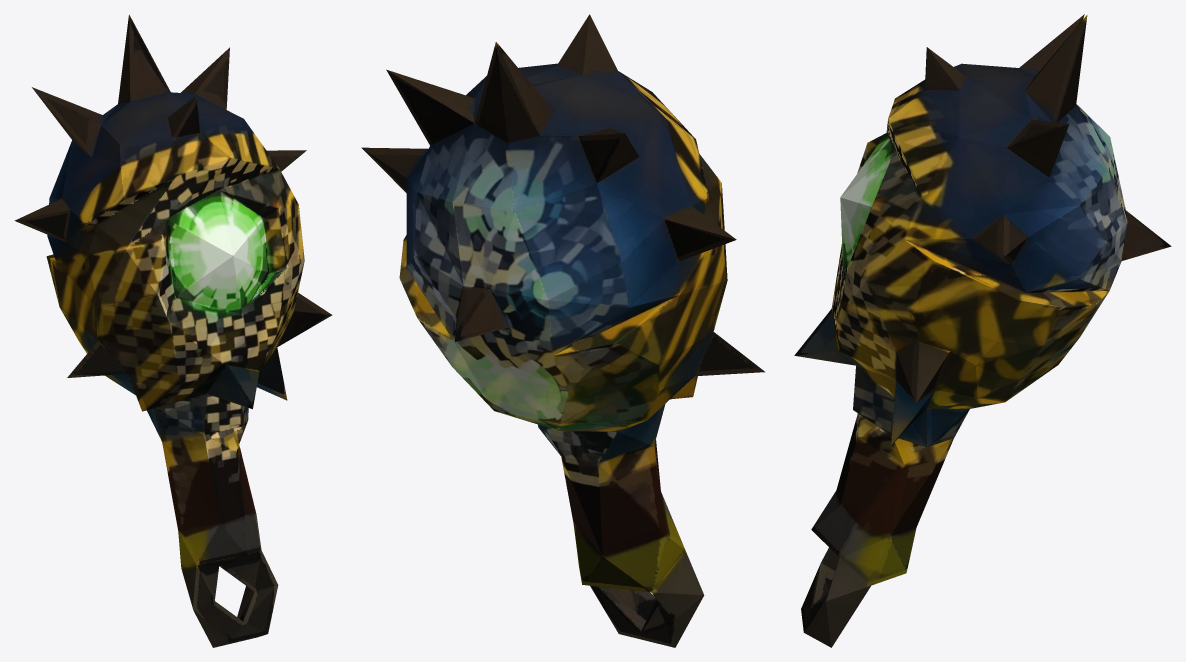
Rendered from spiked_mace_weapon.glb.
The picture shows the model from 3 angles, left to right: view 1: azimuth 30°, elevation 25°; view 2: azimuth 150°, elevation 25°; view 3: azimuth 270°, elevation 25°; orthographic projection. The views are drawn at different scales.
Visible parts, largest first — view 1: TexturedMesh_.obj; view 2: TexturedMesh_.obj; view 3: TexturedMesh_.obj.
Boxes of the visible parts, bbox=[...] form: TexturedMesh_.obj: bbox=[14, 14, 332, 647]; TexturedMesh_.obj: bbox=[361, 14, 764, 647]; TexturedMesh_.obj: bbox=[794, 14, 1171, 647].
Size of the model in its own units: 1.12 by 2 by 1.09.
Materials: 1 (1 with a texture image).
